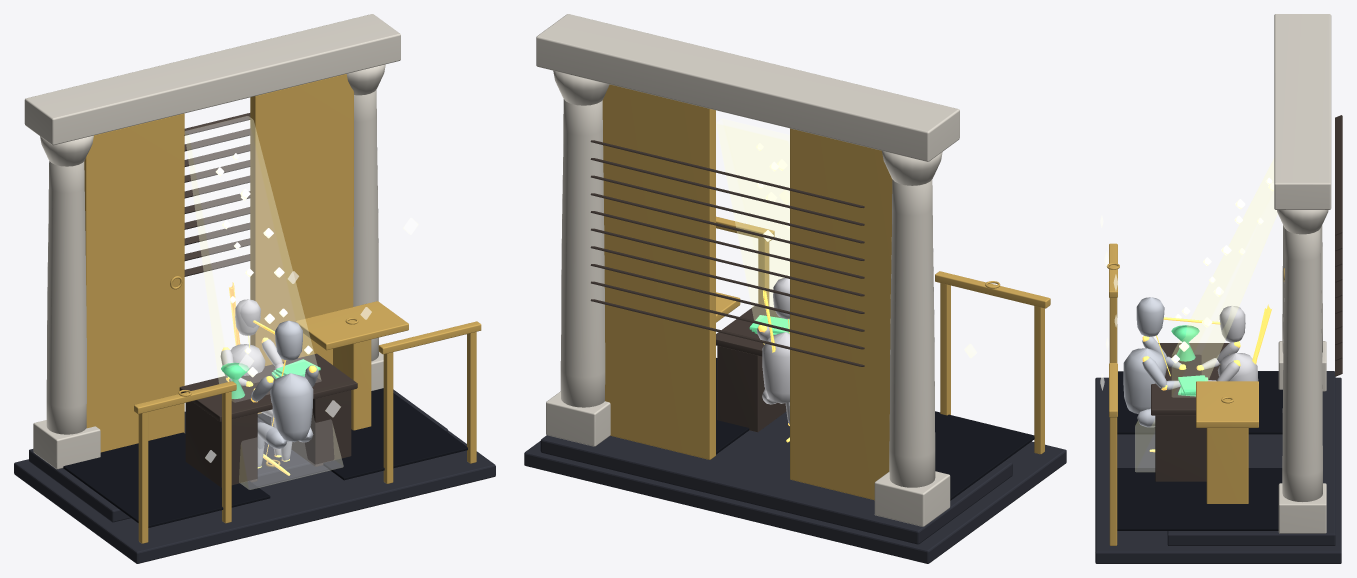
Rendered from webtoon-genre-noir-venetian-detective-v30.glb.
3 renders of one model, left to right at view 1: azimuth 30°, elevation 25°; view 2: azimuth 150°, elevation 25°; view 3: azimuth 270°, elevation 25°, orthographic. The views are drawn at different scales.
Visible parts, largest first — view 1: Articulated_V30Genre2_Noir_DoorsAndIkRig, V30Genre2_Noir_PortalColonnade, Volumetric_V30Genre2_Noir_GodRaySlit, V30Genre2_Noir_DatumDeck, GenreV30_V30Genre2_Noir_DatumSet, ShadowDrift_V30Genre2_Noir_UmbraMask, DuoVrm_V30Genre2_Noir_LeadA, DuoVrm_V30Genre2_Noir_LeadB, GenreV30_V30Genre2_Noir_HeroProp, DuoVrm_V30Genre2_Noir_EyelineAndAxis180, Atmospheric_V30Genre2_Noir_MidMotes, Atmospheric_V30Genre2_Noir_FgBokehLayer; view 2: Articulated_V30Genre2_Noir_DoorsAndIkRig, V30Genre2_Noir_PortalColonnade, V30Genre2_Noir_DatumDeck, GenreV30_V30Genre2_Noir_DatumSet, Volumetric_V30Genre2_Noir_GodRaySlit, ShadowDrift_V30Genre2_Noir_UmbraMask, DuoVrm_V30Genre2_Noir_LeadB; view 3: V30Genre2_Noir_PortalColonnade, V30Genre2_Noir_DatumDeck, ShadowDrift_V30Genre2_Noir_UmbraMask, Articulated_V30Genre2_Noir_DoorsAndIkRig, Volumetric_V30Genre2_Noir_GodRaySlit, GenreV30_V30Genre2_Noir_DatumSet, DuoVrm_V30Genre2_Noir_LeadA, DuoVrm_V30Genre2_Noir_LeadB, GenreV30_V30Genre2_Noir_HeroProp, DuoVrm_V30Genre2_Noir_EyelineAndAxis180, Atmospheric_V30Genre2_Noir_MidMotes.
Part boxes in pixels (<box>): Articulated_V30Genre2_Noir_DoorsAndIkRig: <box>84,74,481,543</box>; V30Genre2_Noir_PortalColonnade: <box>24,14,400,469</box>; Volumetric_V30Genre2_Noir_GodRaySlit: <box>185,116,343,489</box>; V30Genre2_Noir_DatumDeck: <box>14,389,495,563</box>; GenreV30_V30Genre2_Noir_DatumSet: <box>179,113,357,487</box>; ShadowDrift_V30Genre2_Noir_UmbraMask: <box>63,388,467,527</box>; DuoVrm_V30Genre2_Noir_LeadA: <box>250,320,318,466</box>; DuoVrm_V30Genre2_Noir_LeadB: <box>220,299,283,455</box>; GenreV30_V30Genre2_Noir_HeroProp: <box>221,359,320,398</box>; DuoVrm_V30Genre2_Noir_EyelineAndAxis180: <box>222,282,316,475</box>; Atmospheric_V30Genre2_Noir_MidMotes: <box>215,153,312,377</box>; Atmospheric_V30Genre2_Noir_FgBokehLayer: <box>205,218,418,462</box>; Articulated_V30Genre2_Noir_DoorsAndIkRig: <box>602,84,1050,500</box>; V30Genre2_Noir_PortalColonnade: <box>536,14,959,526</box>; V30Genre2_Noir_DatumDeck: <box>524,411,1066,563</box>; GenreV30_V30Genre2_Noir_DatumSet: <box>590,140,864,432</box>; Volumetric_V30Genre2_Noir_GodRaySlit: <box>716,119,789,332</box>; ShadowDrift_V30Genre2_Noir_UmbraMask: <box>716,358,1034,500</box>; DuoVrm_V30Genre2_Noir_LeadB: <box>757,278,789,424</box>; V30Genre2_Noir_PortalColonnade: <box>1274,14,1331,533</box>; V30Genre2_Noir_DatumDeck: <box>1095,371,1341,563</box>; ShadowDrift_V30Genre2_Noir_UmbraMask: <box>1117,371,1282,530</box>; Articulated_V30Genre2_Noir_DoorsAndIkRig: <box>1107,243,1284,545</box>; Volumetric_V30Genre2_Noir_GodRaySlit: <box>1135,159,1277,471</box>; GenreV30_V30Genre2_Noir_DatumSet: <box>1151,115,1342,481</box>; DuoVrm_V30Genre2_Noir_LeadA: <box>1123,297,1181,427</box>; DuoVrm_V30Genre2_Noir_LeadB: <box>1202,306,1258,381</box>; GenreV30_V30Genre2_Noir_HeroProp: <box>1171,325,1207,396</box>; DuoVrm_V30Genre2_Noir_EyelineAndAxis180: <box>1142,304,1271,452</box>; Atmospheric_V30Genre2_Noir_MidMotes: <box>1171,177,1274,363</box>.
Size of the model in its own units: 2.76 by 3.06 by 1.65.
